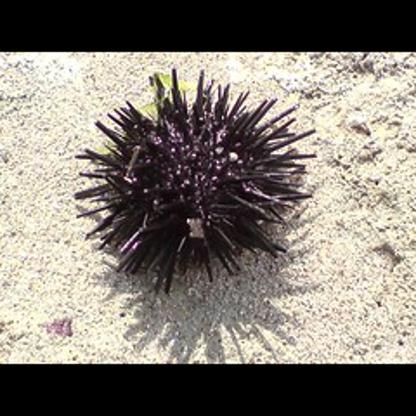urchin: (76, 73, 313, 284)
